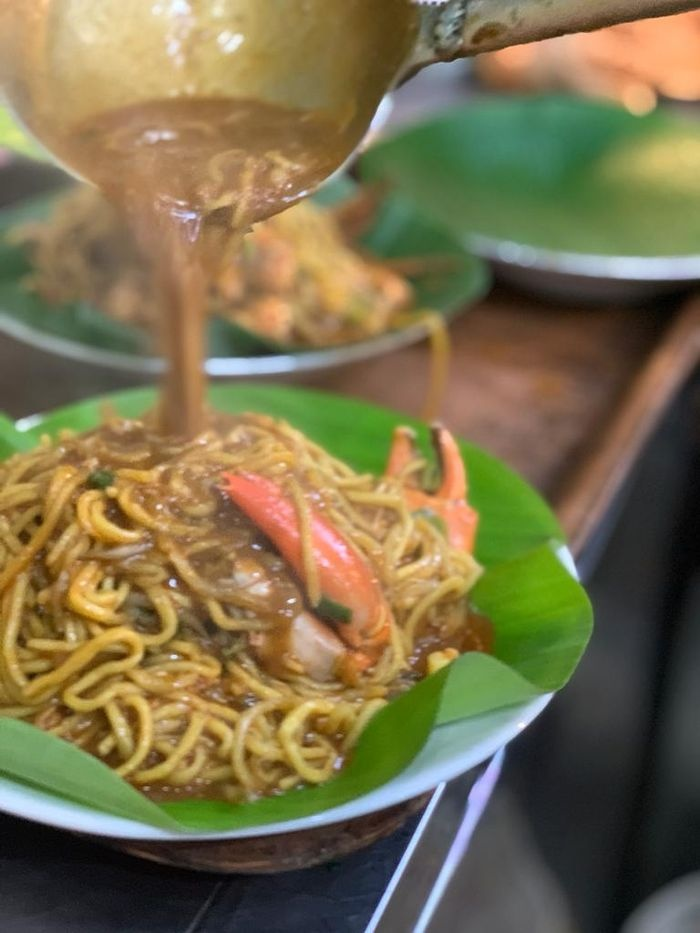mie_aceh: (3, 412, 487, 800)
